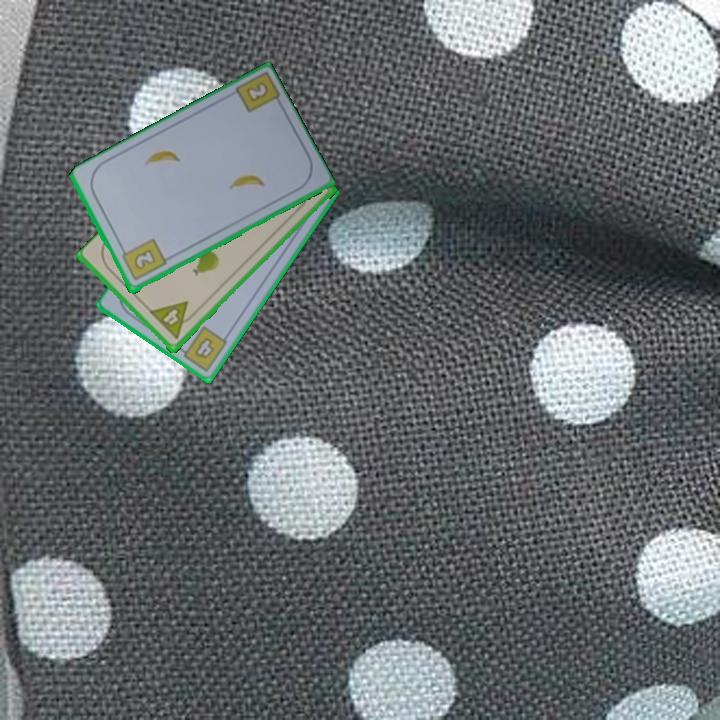2b: (117, 235, 169, 284), (245, 81, 269, 103)
4b: (175, 323, 230, 375)
4p: (147, 298, 200, 343)
